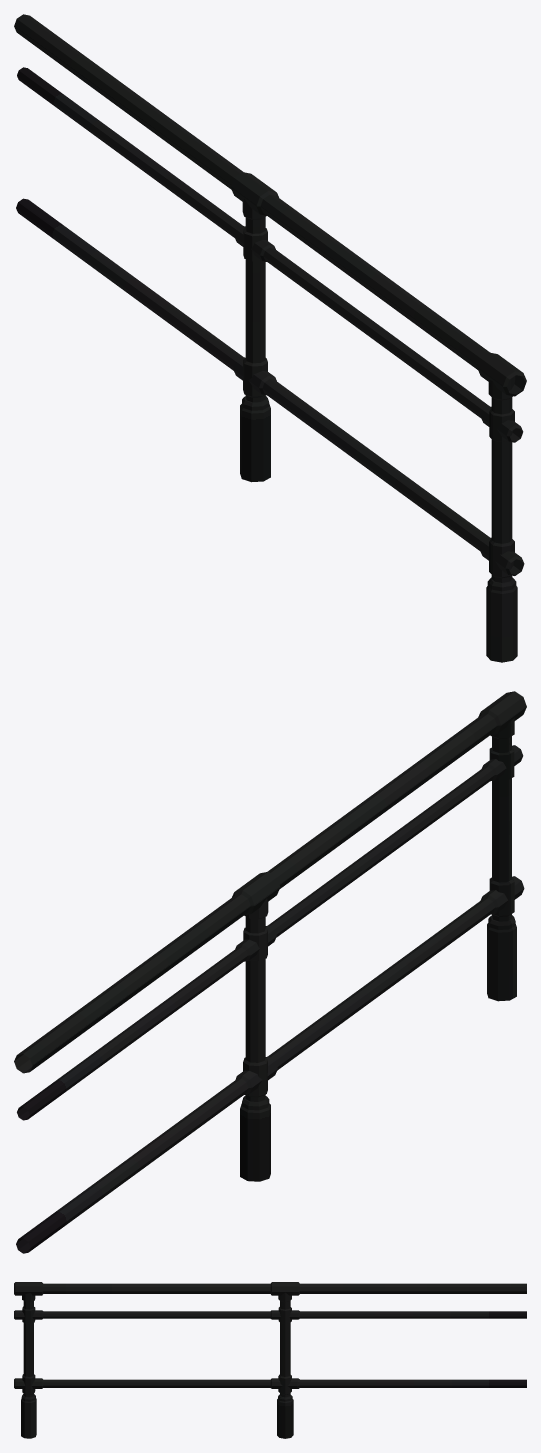
File: Bridge_Fence01.fbx
The picture shows the model from 3 angles, top to bottom: view 1: azimuth 30°, elevation 25°; view 2: azimuth 150°, elevation 25°; view 3: azimuth 270°, elevation 25°; orthographic projection. The views are drawn at different scales.
Visible parts, largest first — view 1: SM_City_Bridge_Fence_01b.mo; view 2: SM_City_Bridge_Fence_01b.mo; view 3: SM_City_Bridge_Fence_01b.mo.
Boxes of the visible parts, <box> form: SM_City_Bridge_Fence_01b.mo: <box>14,14,526,662</box>; SM_City_Bridge_Fence_01b.mo: <box>14,691,526,1253</box>; SM_City_Bridge_Fence_01b.mo: <box>14,1282,526,1438</box>.
Bounding box in the file's own units: 12.16 × 123 × 375.
